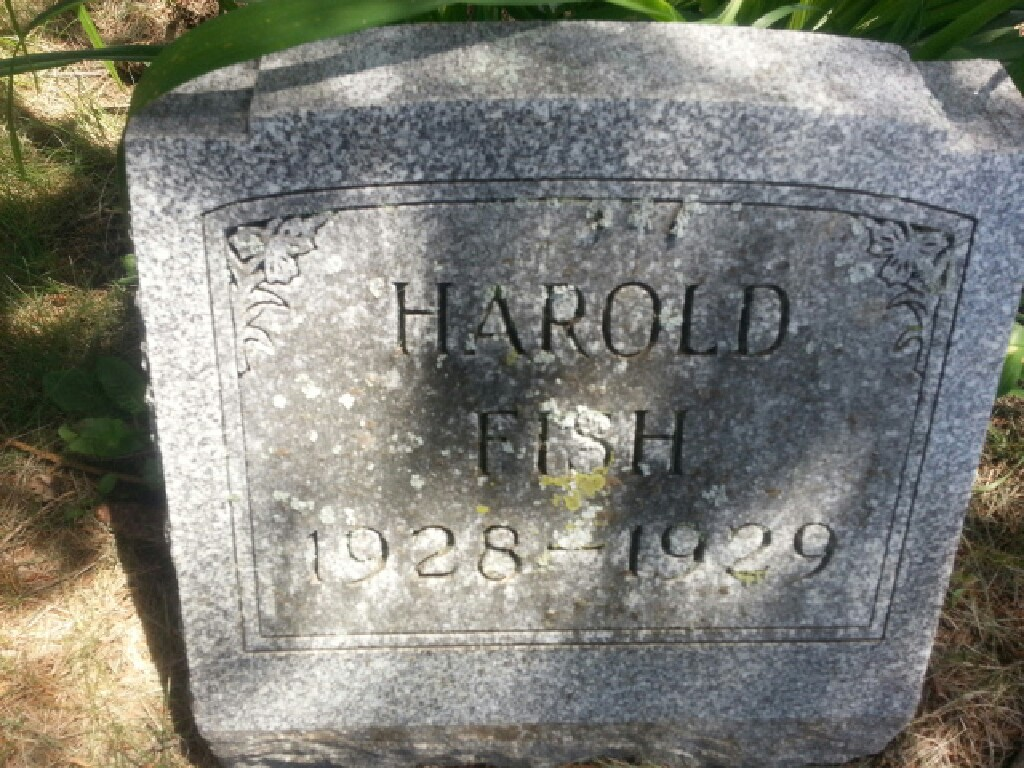upright: (107, 23, 1020, 751)
